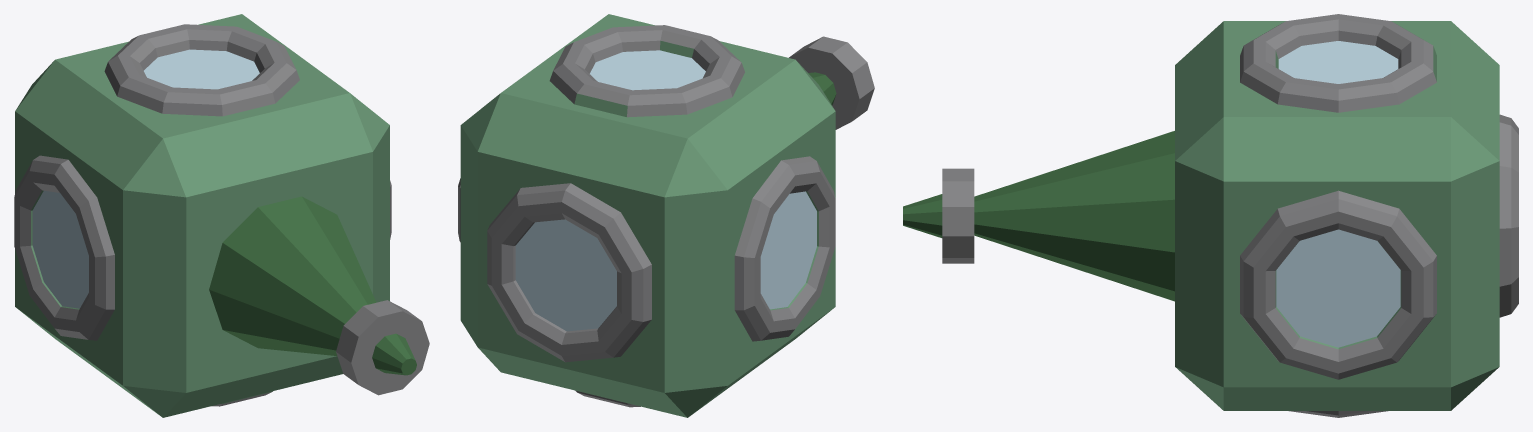
File: laser.fbx
3 renders of one model, left to right at view 1: azimuth 30°, elevation 25°; view 2: azimuth 150°, elevation 25°; view 3: azimuth 270°, elevation 25°, orthographic. The views are drawn at different scales.
Visible parts, largest first — view 1: pTorus6; view 2: pTorus6; view 3: pTorus6.
Part boxes in pixels (left/top/right/bottom): pTorus6: left=14, top=14, right=429, bottom=417; pTorus6: left=458, top=14, right=874, bottom=417; pTorus6: left=903, top=14, right=1518, bottom=417.
Bounding box in the file's own units: 1.11 × 1.12 × 1.9.
